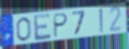2: (109, 5, 123, 34)
7: (71, 9, 87, 37)
E: (32, 13, 52, 42)
I: (99, 8, 105, 34)
O: (15, 17, 32, 42)
P: (53, 12, 70, 39)
